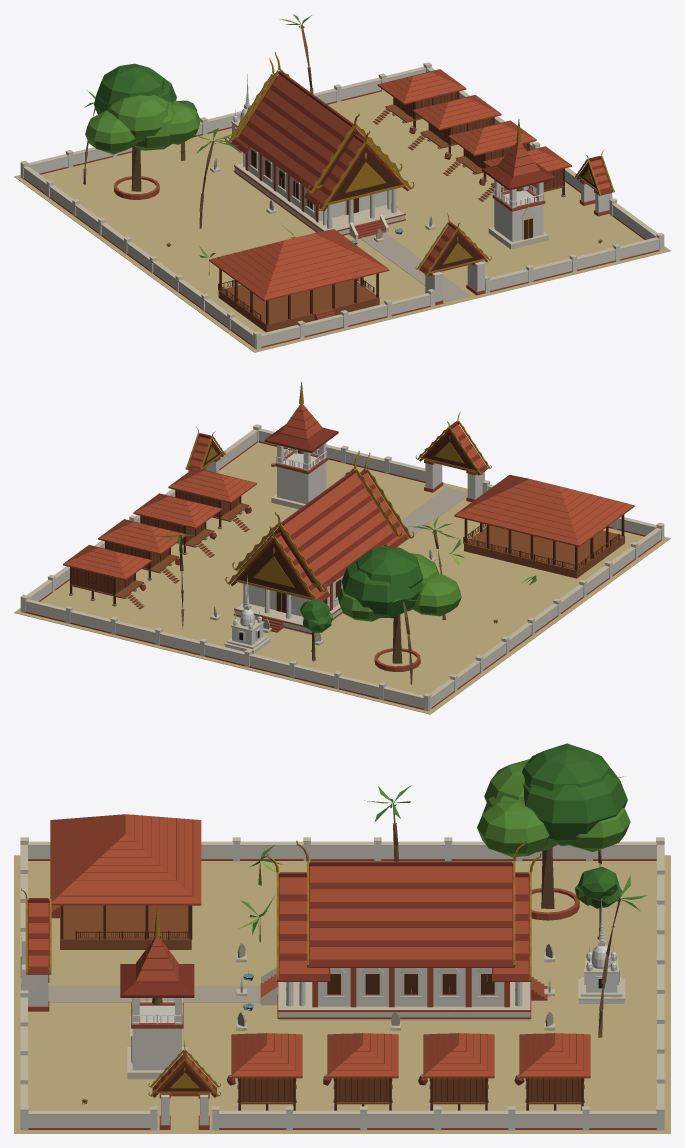
File: temple_2.glb
3 renders of one model, top to bottom at view 1: azimuth 30°, elevation 25°; view 2: azimuth 150°, elevation 25°; view 3: azimuth 270°, elevation 25°, orthographic. The views are drawn at different scales.
Parts seen in each view (by area): view 1: body; view 2: body; view 3: body.
Part boxes in pixels (<box>): body: <box>14,14,670,352</box>; body: <box>14,381,670,714</box>; body: <box>14,743,670,1133</box>.
Size of the model in its own units: 47.9 by 13.26 by 47.9.
